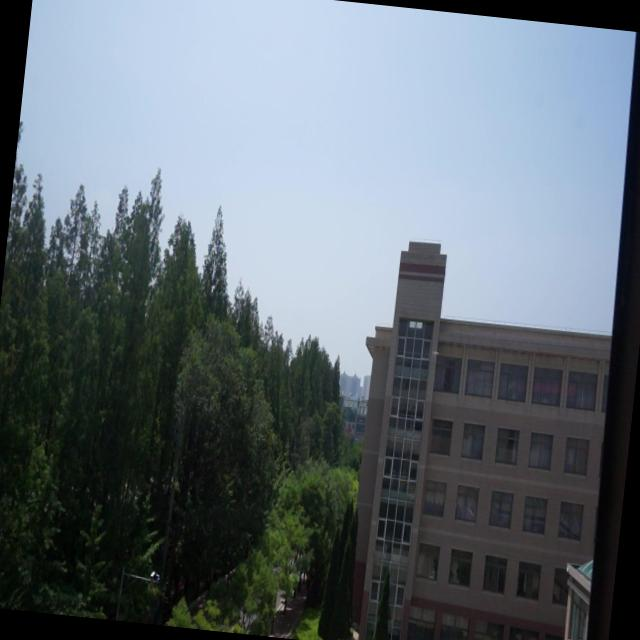drone: (428, 345, 442, 361)
